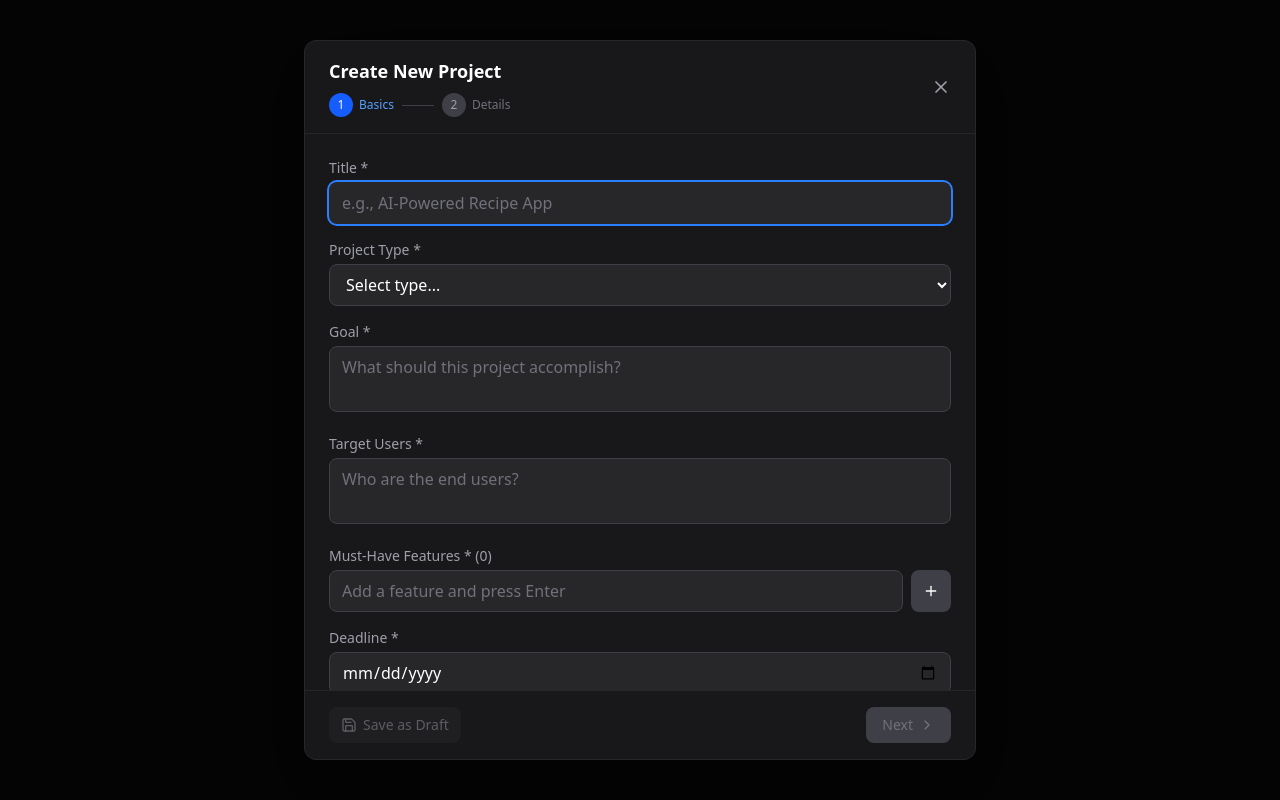
Test: CreateProjectWizard › adds and removes must-have tags
Type "Search" into the field with placeholder "Add a feature and press Enter" at coordinates (616, 591), box [329,570,903,612]
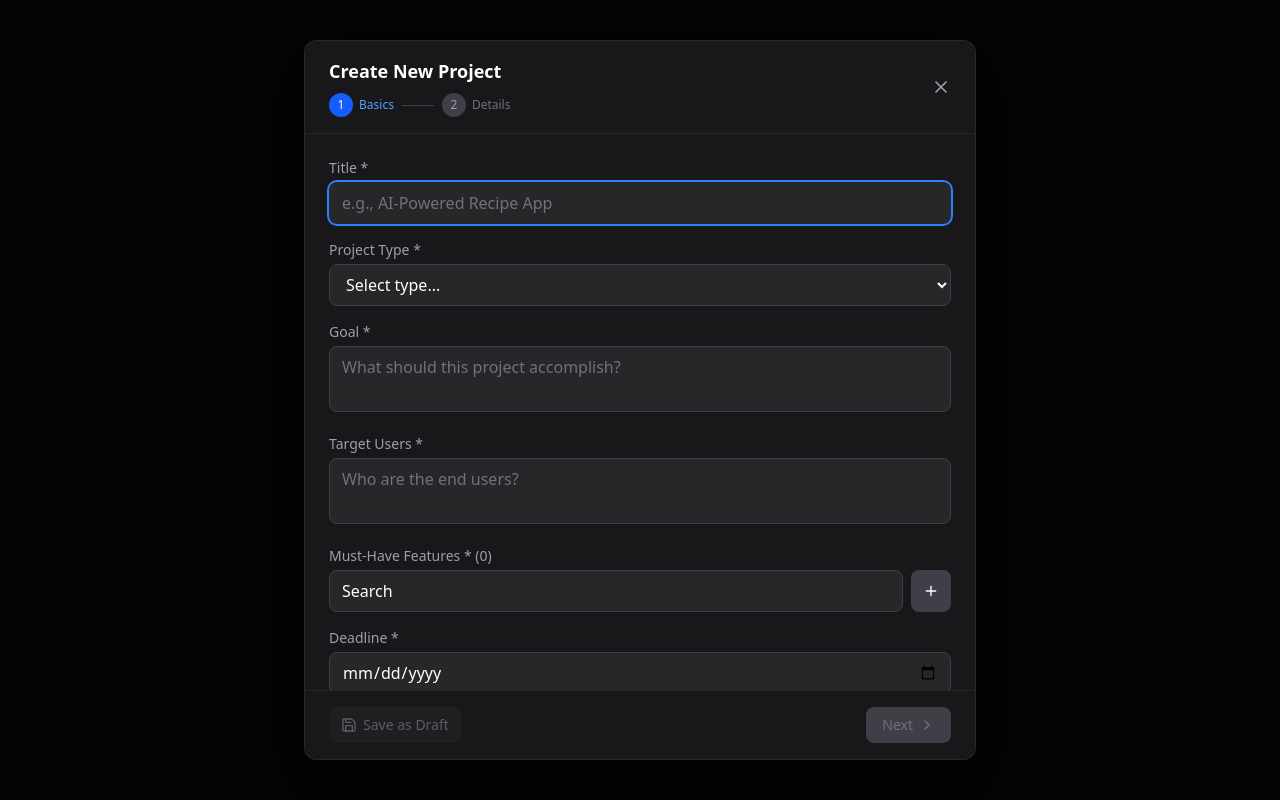
Press Enter in the field with placeholder "Add a feature and press Enter", box [329,570,903,612]
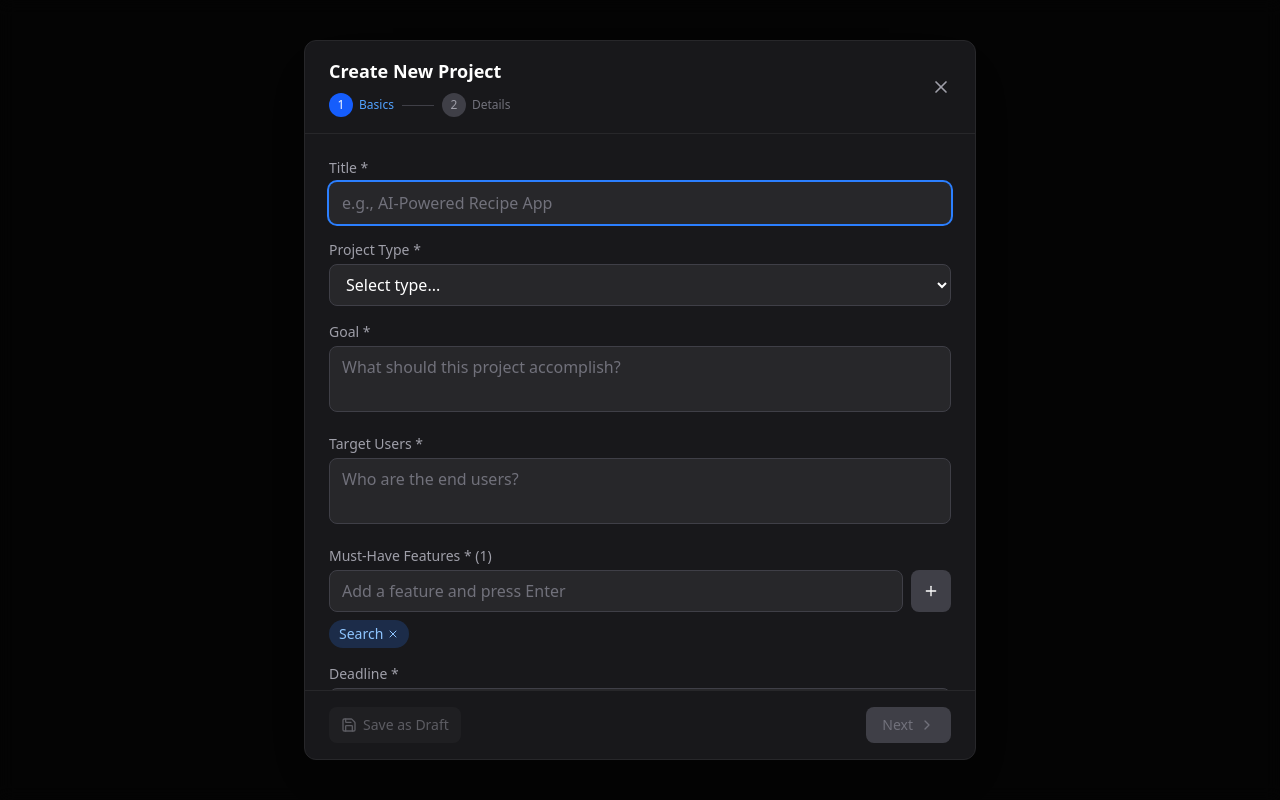
Now the text "Search" is shown, box [329,620,409,648]
Click the button without text next to "Search" at coordinates (393, 634), box [387,628,399,640]
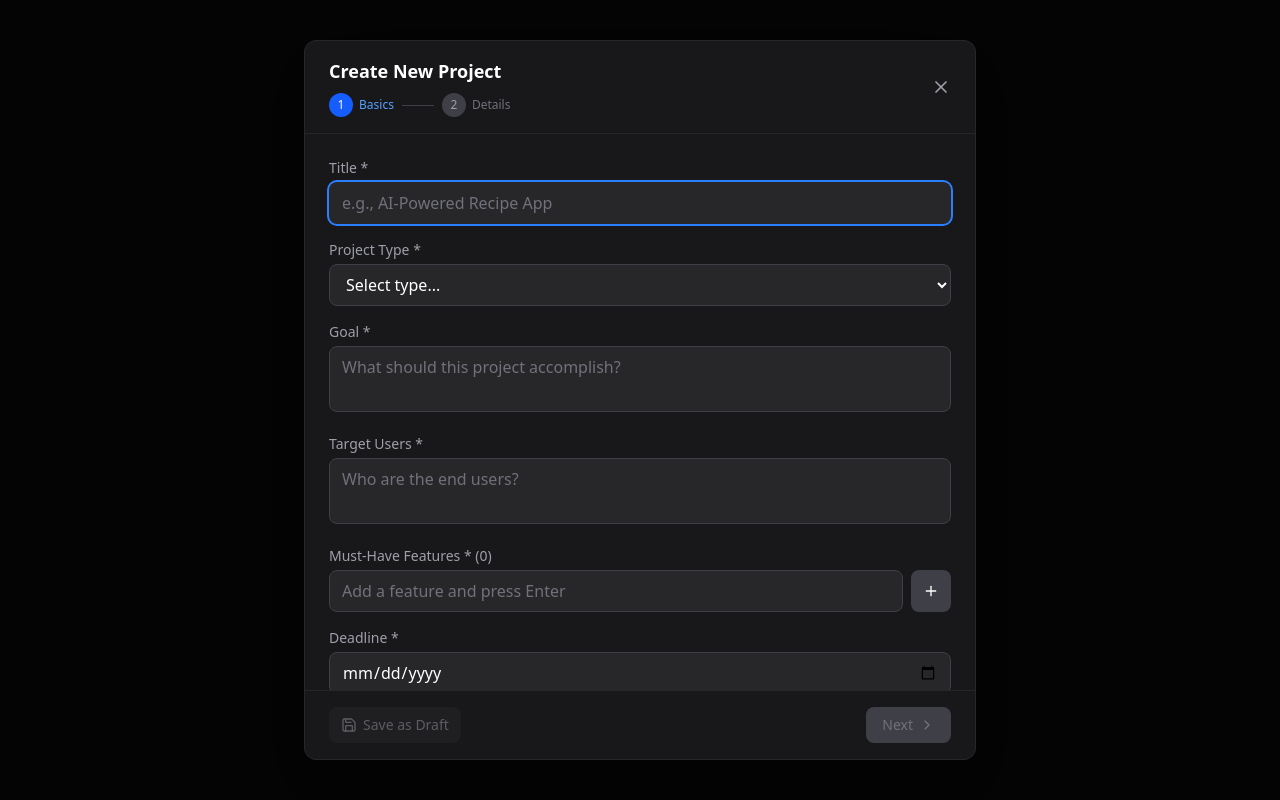
Now the text "Search" is gone
